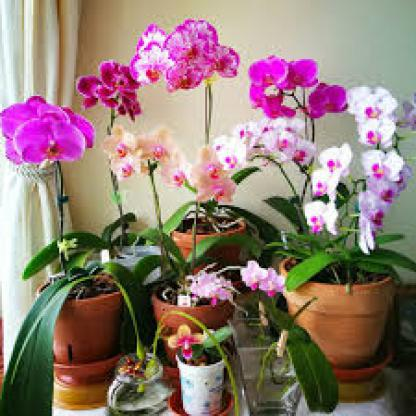ANGGREK: (9, 29, 403, 341)
